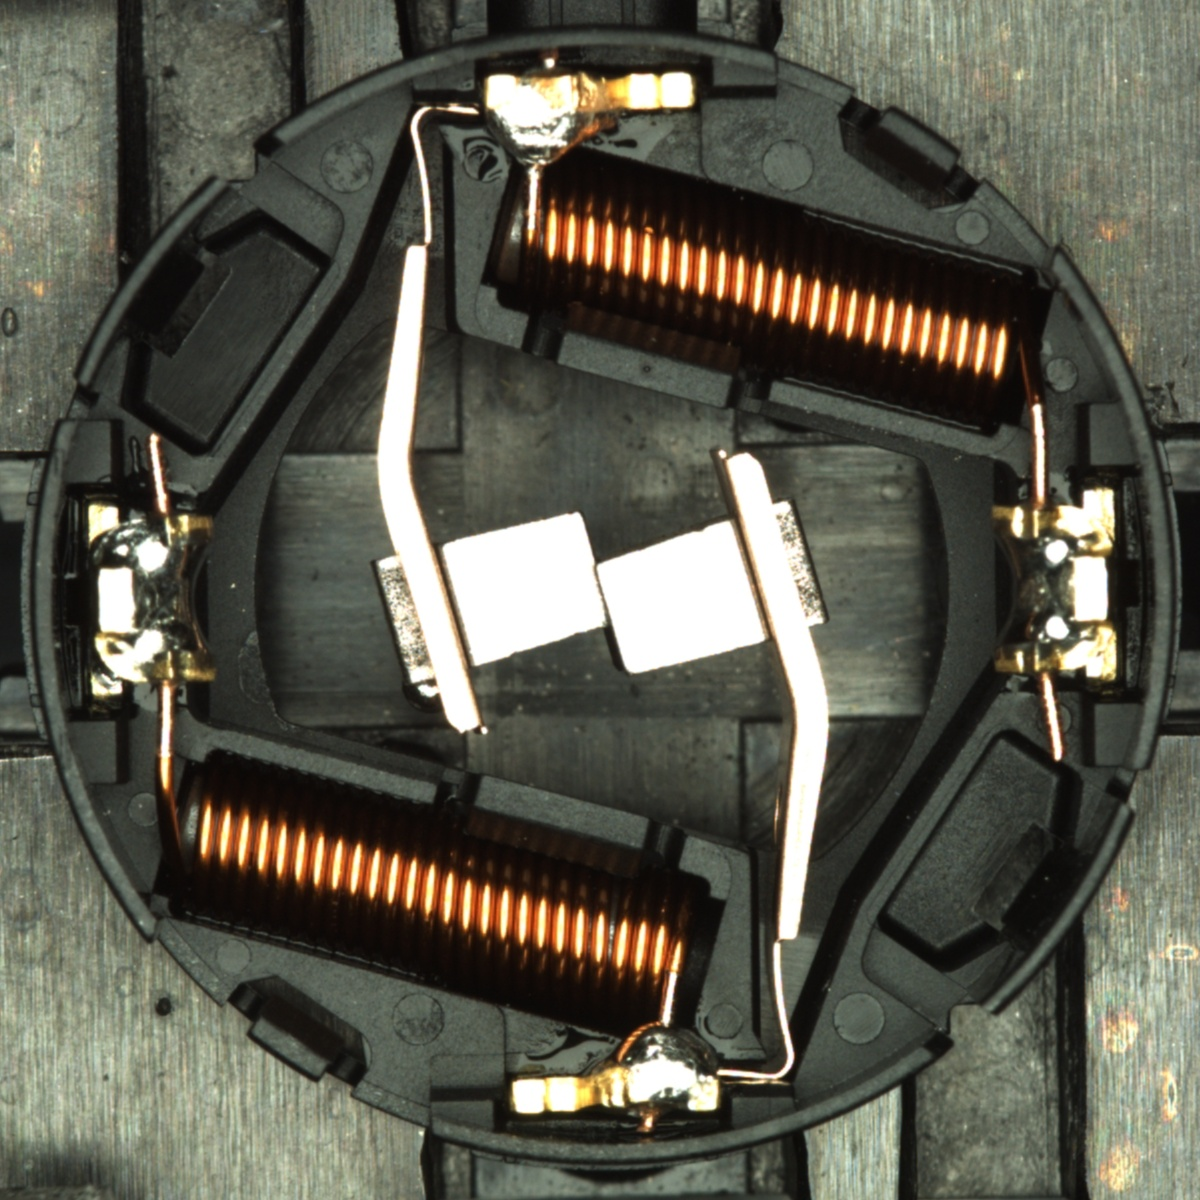1: (258, 55, 487, 279), (716, 953, 945, 1177)
2: (716, 55, 945, 279), (258, 953, 487, 1177)
3: (28, 279, 258, 504), (945, 728, 1175, 953)
4: (258, 279, 487, 504), (716, 728, 945, 953)
5: (487, 167, 716, 392), (487, 840, 716, 1065)
6: (716, 279, 945, 504), (258, 728, 487, 953)
7: (945, 279, 1175, 504), (28, 728, 258, 953)
chau_dien: (81, 497, 221, 700), (984, 486, 1124, 686)
hat_chi: (401, 678, 445, 715)
tay_choi: (480, 70, 700, 173), (509, 1018, 723, 1117)
thanh_de: (955, 787, 1142, 1031), (61, 163, 246, 405)
